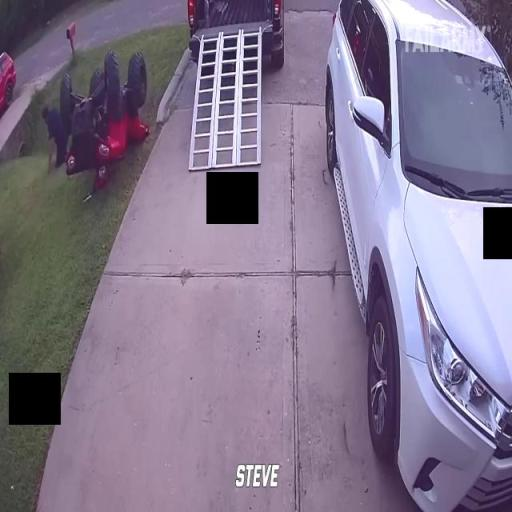Fall: (42, 103, 70, 171)
